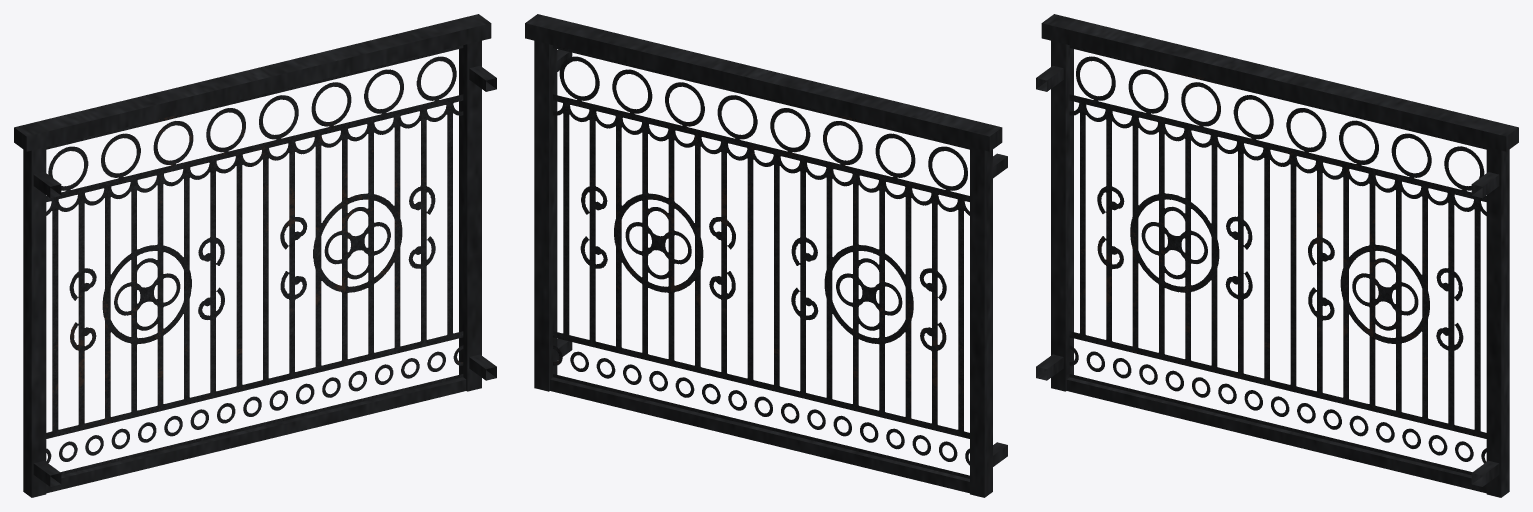
The model's file is balcony_rail_french.glb.
3 renders of one model, left to right at view 1: azimuth 30°, elevation 25°; view 2: azimuth 150°, elevation 25°; view 3: azimuth 330°, elevation 25°, orthographic.
Visible parts, largest first — view 1: balcony_rail_french; view 2: balcony_rail_french; view 3: balcony_rail_french.
Boxes of the visible parts, x1,y1,x2,y2 form: balcony_rail_french: [14, 14, 496, 497]; balcony_rail_french: [525, 14, 1007, 497]; balcony_rail_french: [1036, 14, 1518, 497].
Bounding box in the file's own units: 1.28 × 0.96 × 0.13.
Materials: 1 (1 with a texture image).
